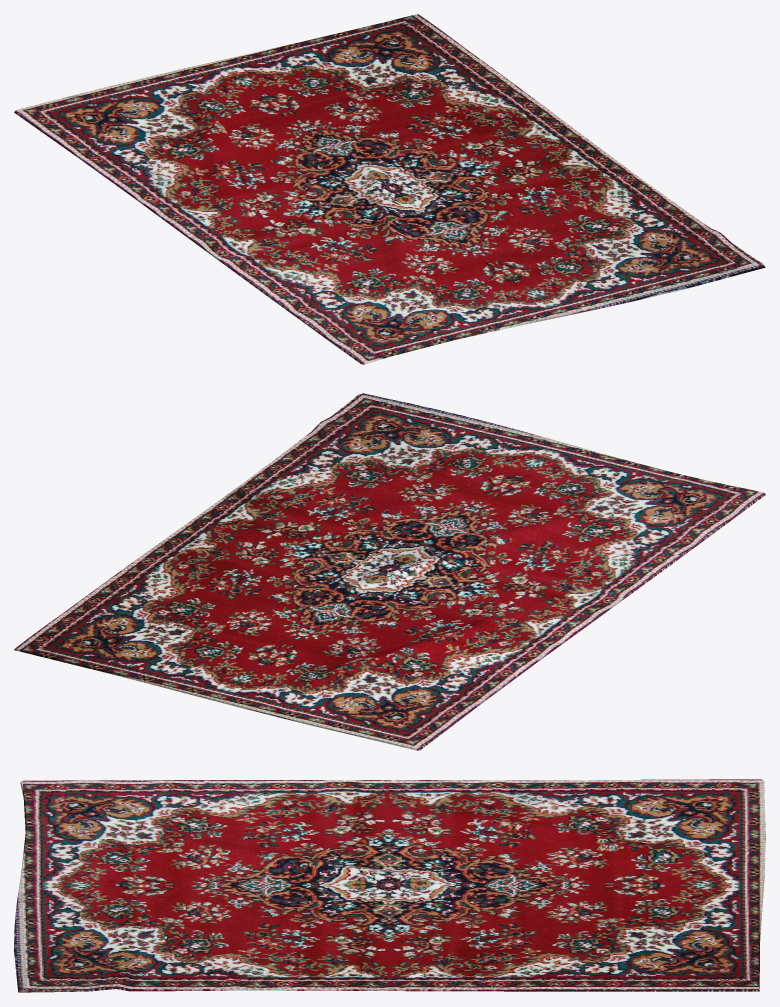
The model's file is Carpet.fbx.
3 views of the same model, one above another, from view 1: azimuth 30°, elevation 25°; view 2: azimuth 150°, elevation 25°; view 3: azimuth 270°, elevation 25° (orthographic). The views are drawn at different scales.
Visible parts, largest first — view 1: Carpet; view 2: Carpet; view 3: Carpet.
Boxes of the visible parts, bbox=[...] form: Carpet: bbox=[14, 14, 765, 364]; Carpet: bbox=[14, 393, 765, 750]; Carpet: bbox=[14, 779, 765, 992].
Bounding box in the file's own units: 144 × 2.04 × 216.
Materials: 1 (1 with a texture image).
